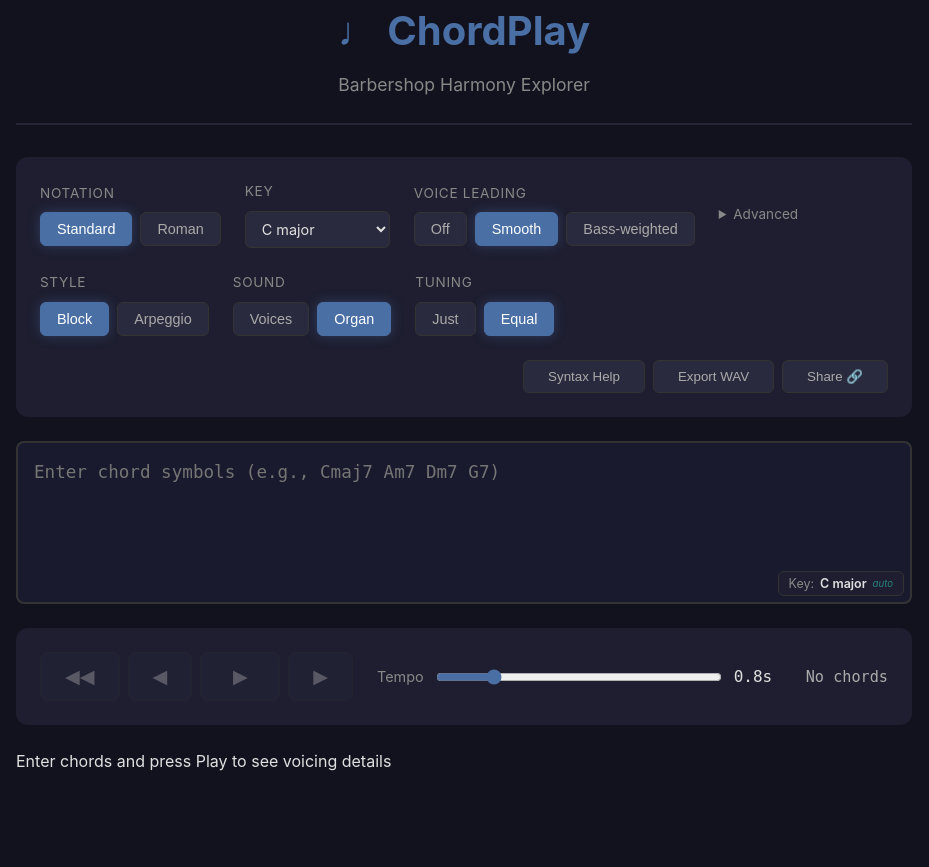
Test: App — keyboard navigation › ArrowRight advances to the next chord
Type "C Am G" into the text box at (464, 519), box left=34, top=459, right=894, bottom=579
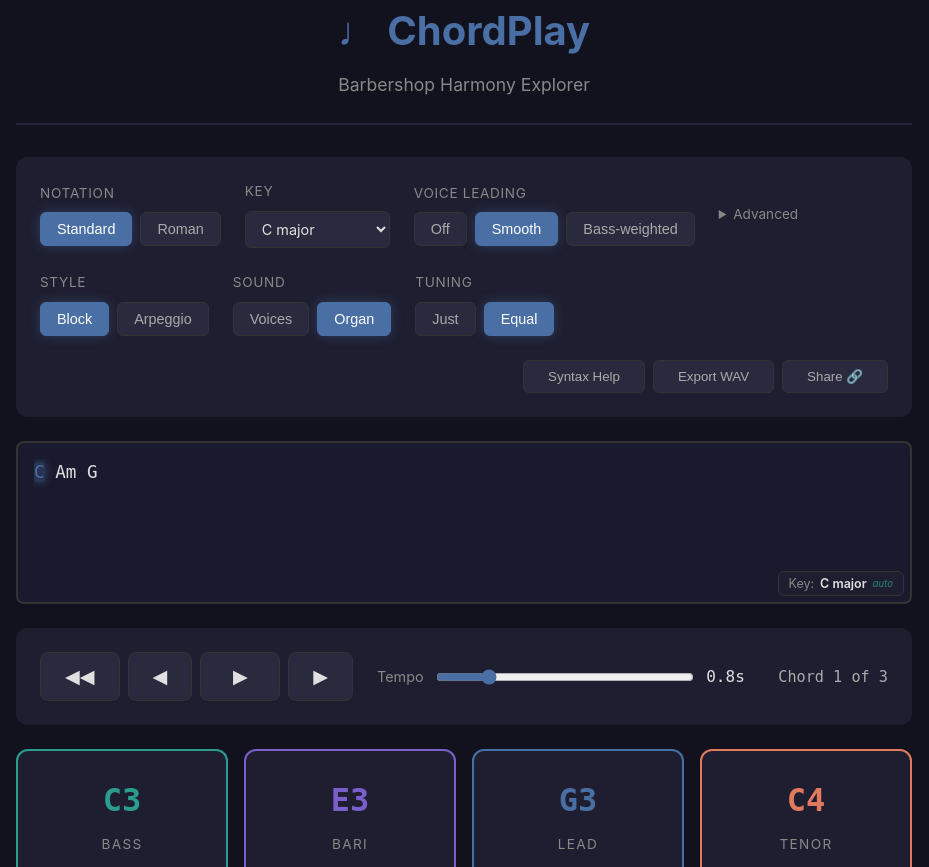
Press ArrowRight
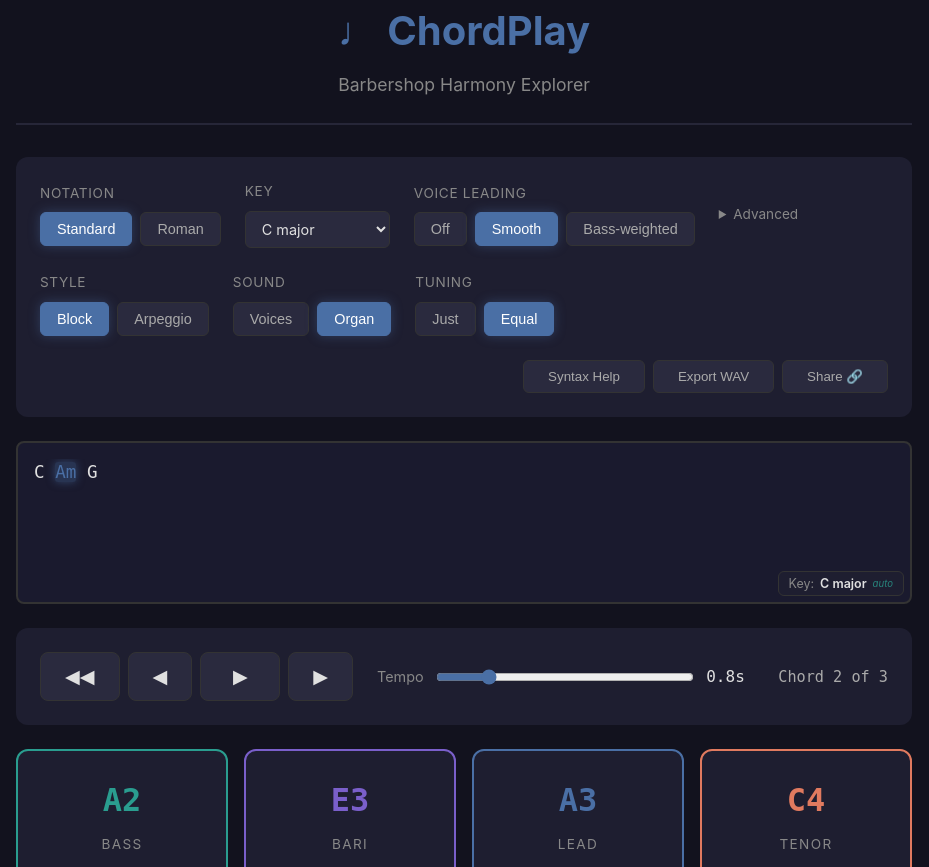
Now the message reads "Chord 2 of 3", box left=778, top=665, right=888, bottom=689
